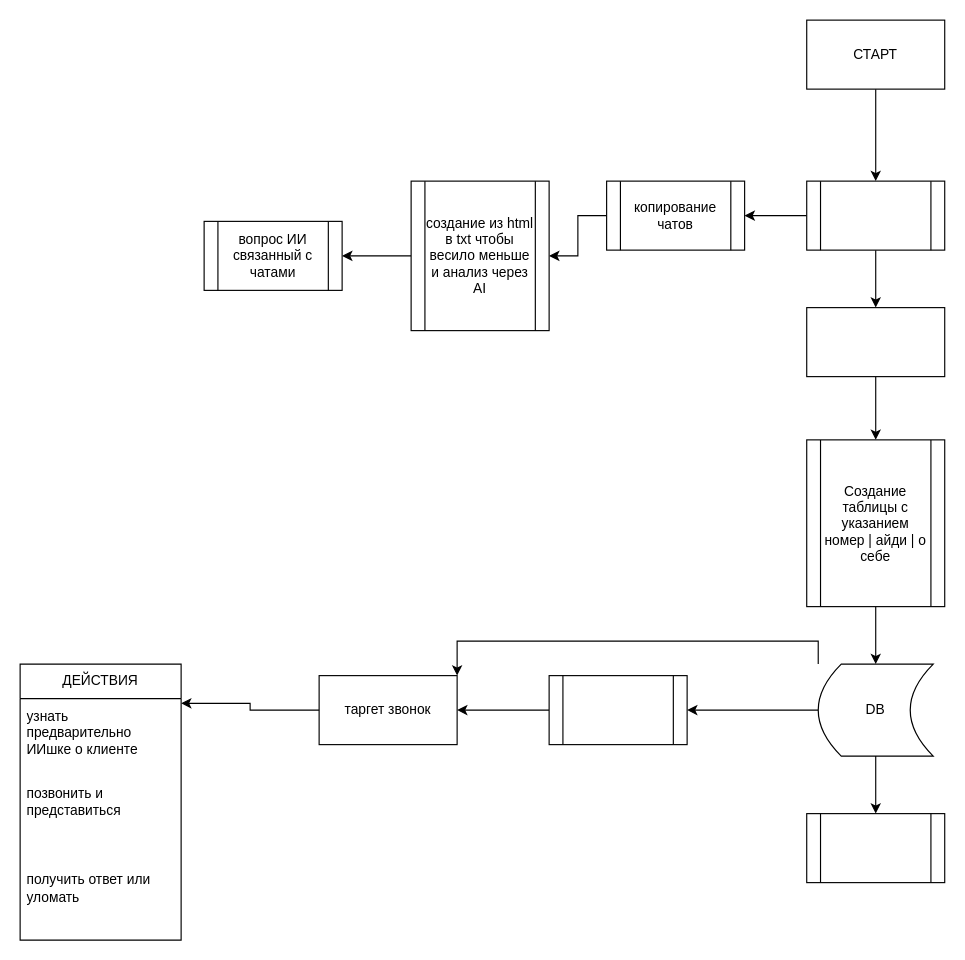
The diagram is 965 pixels wide and 960 high, and some of its shapes have lost their labels. Here are the shapes that lost their labels. From the top down, the centre of each, then its label:
[875,215]: ВОПРОС ЧТО НУЖНО
[875,341]: АНАЛИЗ ВСЕХ ЧАТОВ И УЧАСТНИКОВ ЧАТОВ
[617,709]: ОБЗВОН по номерам на проверку леквидности
[875,847]: ПЕРЕВОД В excel
